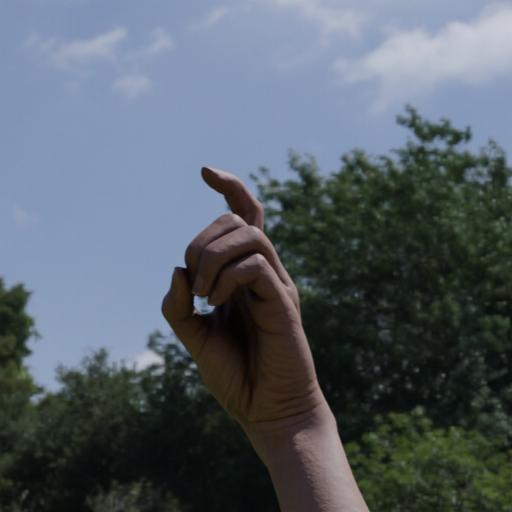X: (144, 162, 330, 438)
